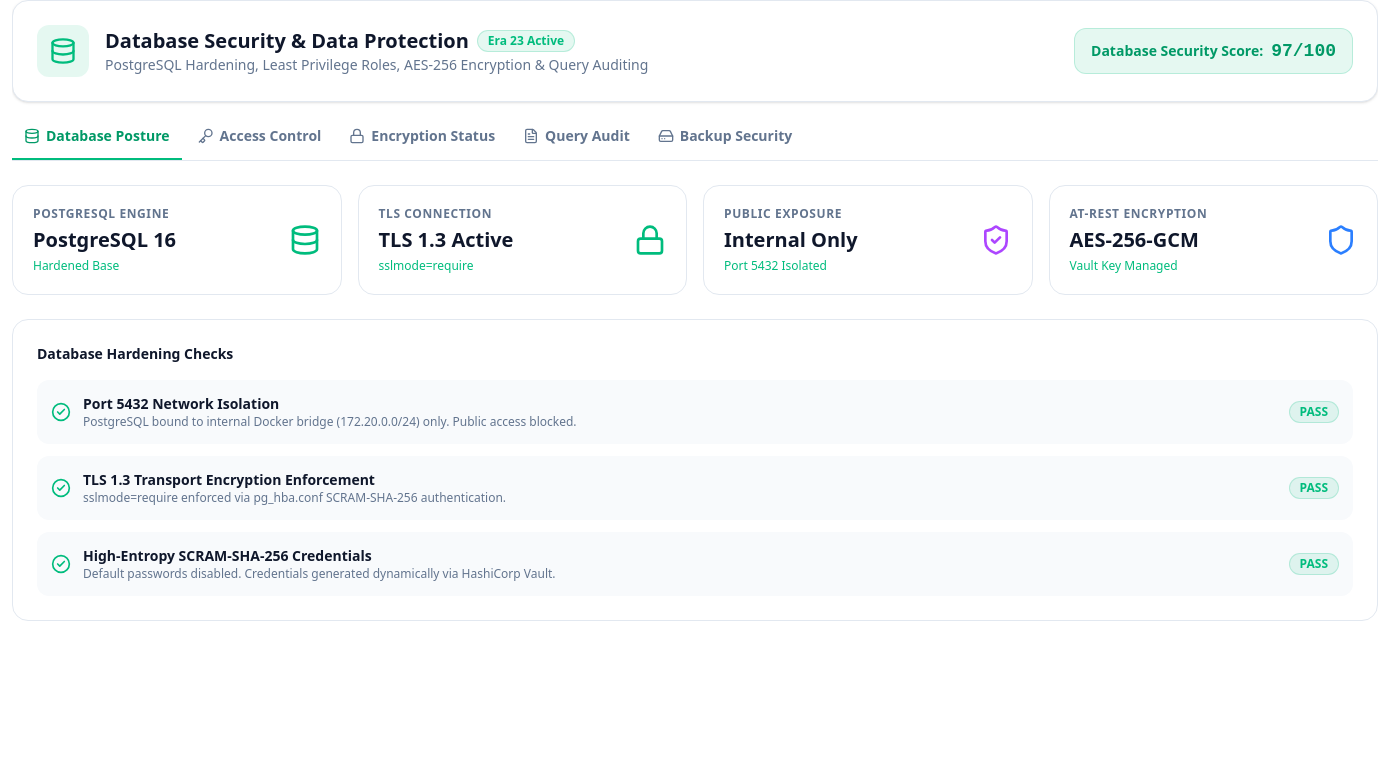
Test: DatabaseSecurityDashboard › clicking Query Audit tab shows database audit actions
This screenshot has width=1378, height=768.
Click the button "Query Audit": (576, 143) x1=511 y1=126 x2=642 y2=160
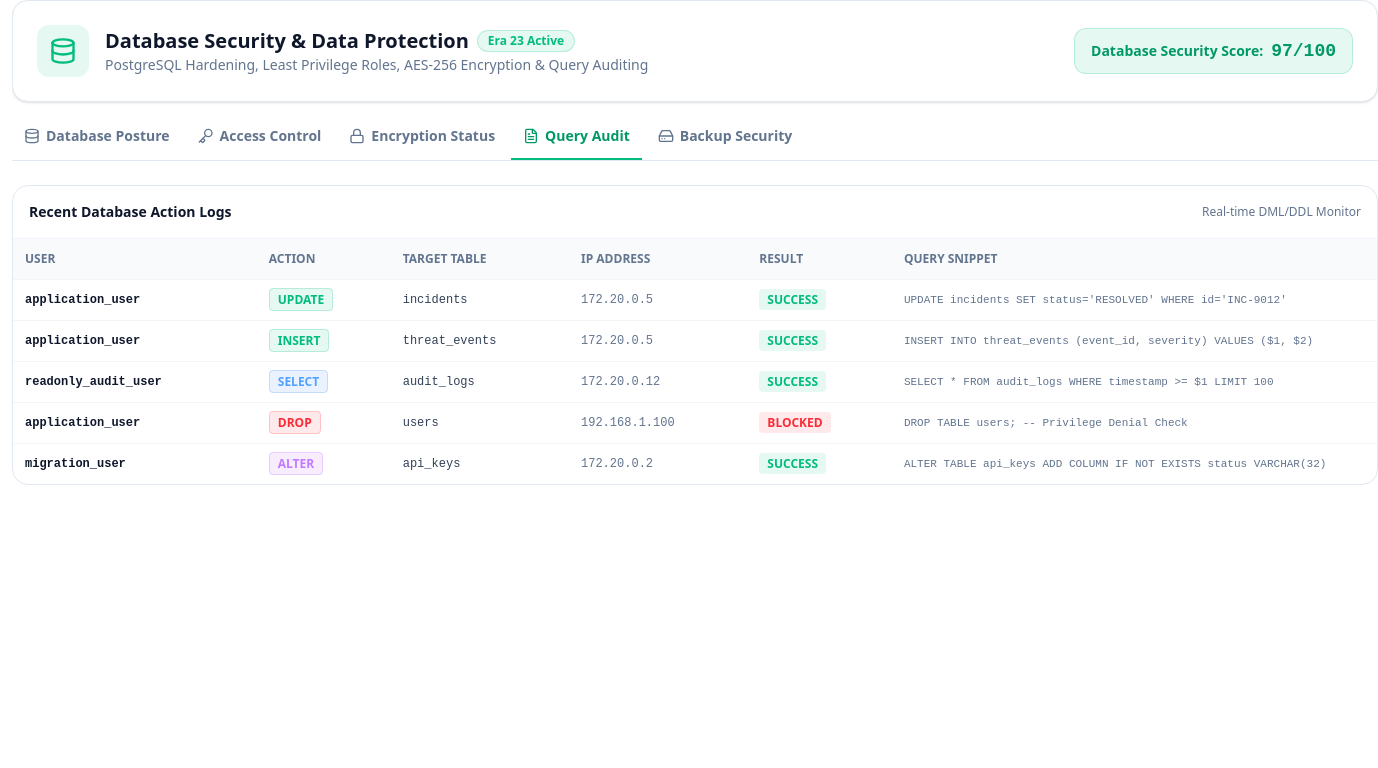
Expected: the heading "Recent Database Action Logs" is shown, x1=29 y1=202 x2=232 y2=222
Expected: the 1st text "application_user" is shown, x1=13 y1=280 x2=257 y2=320
